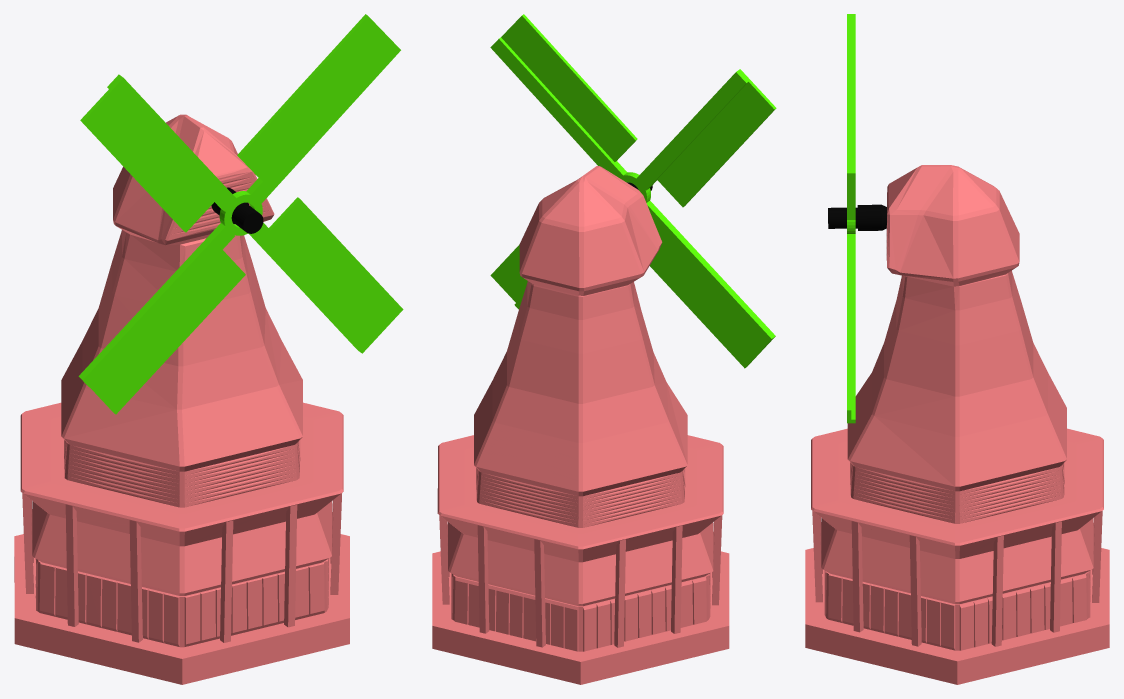
Rendered from Windmill.fbx.
3 views of the same model, side by side, from view 1: azimuth 30°, elevation 25°; view 2: azimuth 150°, elevation 25°; view 3: azimuth 270°, elevation 25° (orthographic). The views are drawn at different scales.
Parts seen in each view (by area): view 1: Origin; view 2: Origin; view 3: Origin.
Part boxes in pixels (<box>): Origin: <box>14,14,403,684</box>; Origin: <box>432,14,776,684</box>; Origin: <box>805,14,1109,684</box>.
Size of the model in its own units: 429 by 735 by 372.
